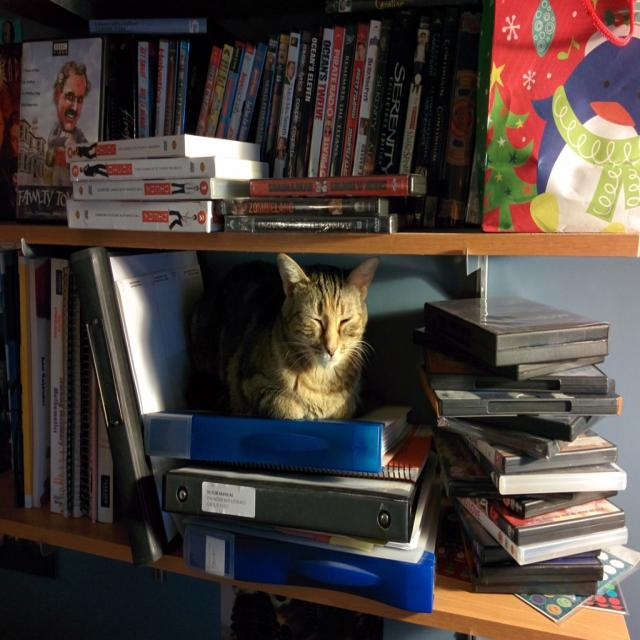Cat: (211, 252, 377, 424)
